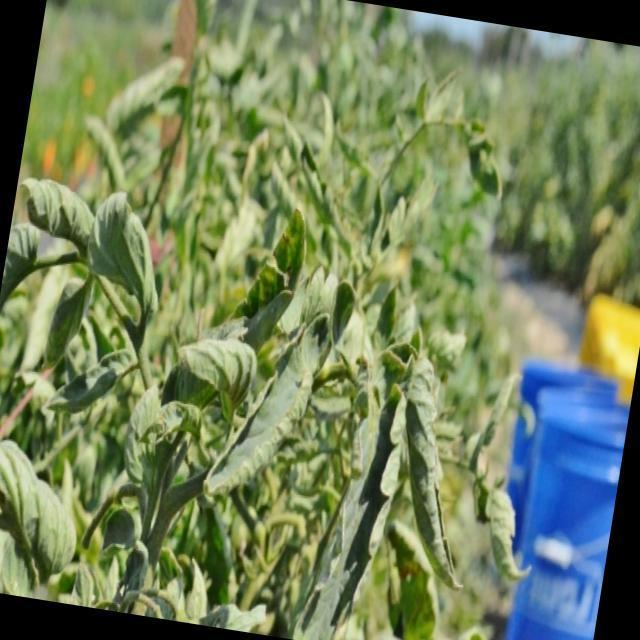Yellow Curl Virus: (300, 372, 416, 640), (200, 308, 328, 515), (377, 357, 485, 582), (78, 178, 175, 324), (45, 342, 129, 430)
